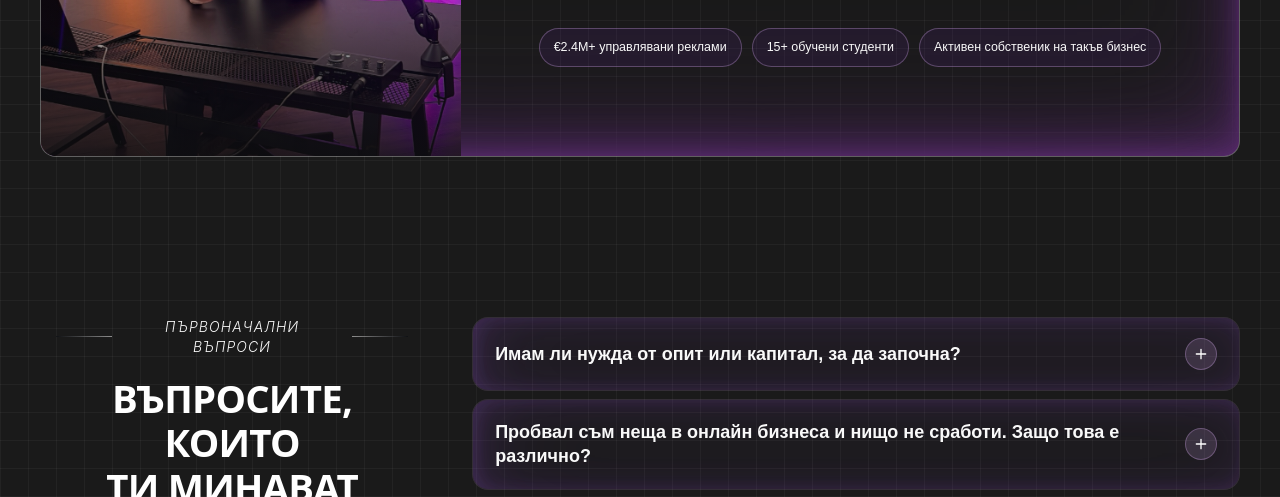
Test: AI Brand Scale landing page › expands FAQ items on click
The width and height of the screenshot is (1280, 497).
(page scrolled)
Click the button "Имам ли нужда от опит или капитал, за да започна?". click: (856, 354)
box: [473,318,1239,390]
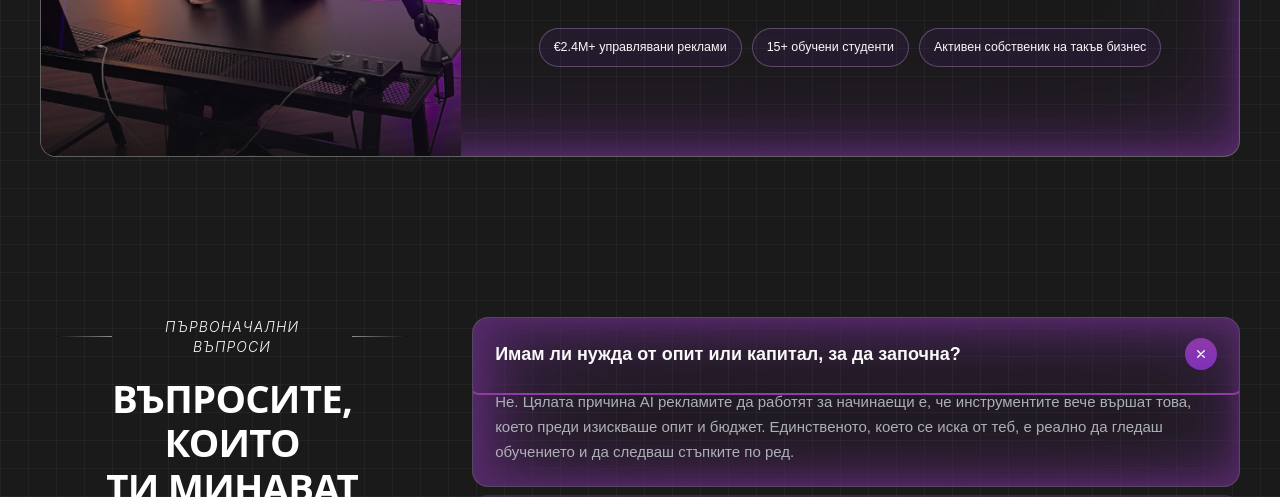
Expected: the button "Имам ли нужда от опит или капитал, за да започна?" is expanded, [473,318,1239,390]
